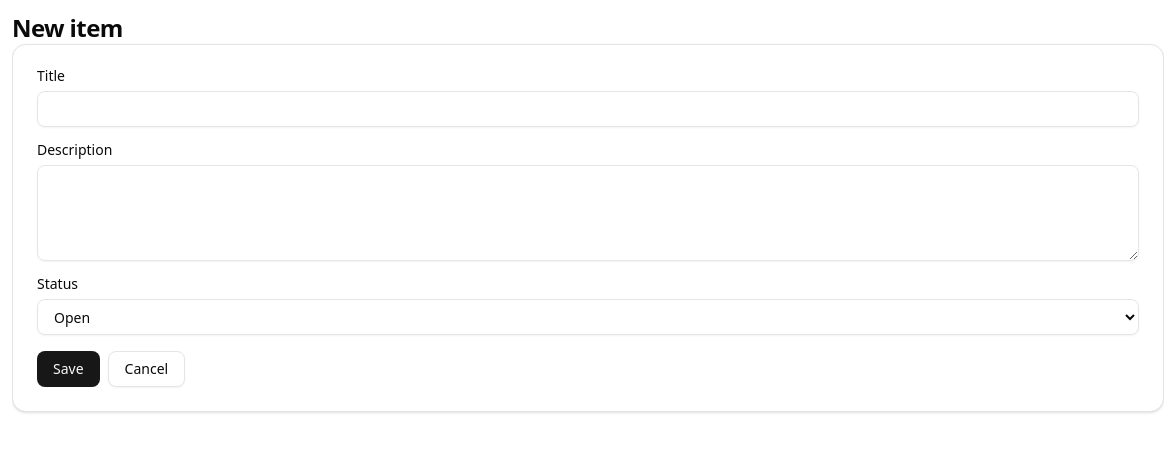
Test: ModuleForm (items) › validates title and description length before sending
This screenshot has width=1164, height=454.
Click the button "Save" at (68,369), box x1=37 y1=351 x2=100 y2=387
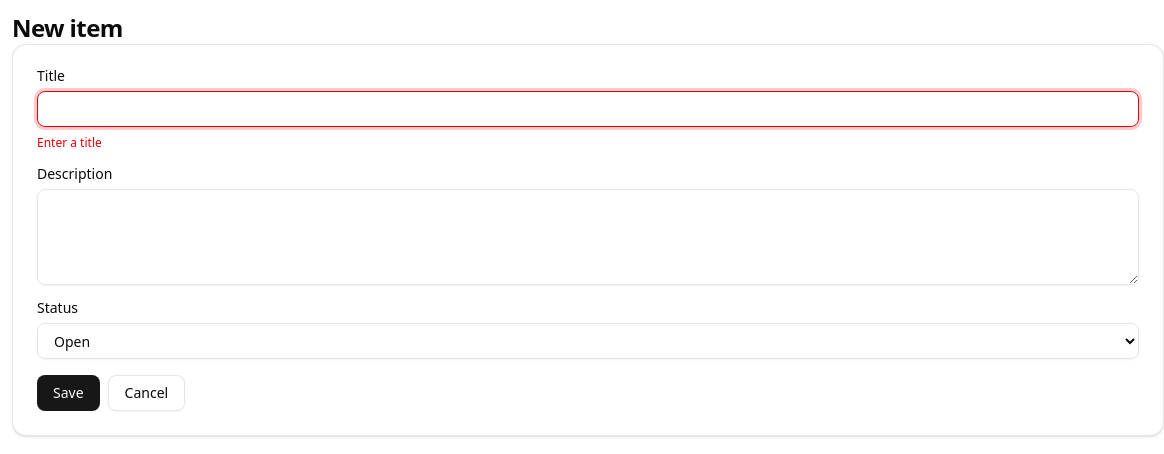
Now the text "Enter a title" is shown, box x1=37 y1=134 x2=102 y2=151
